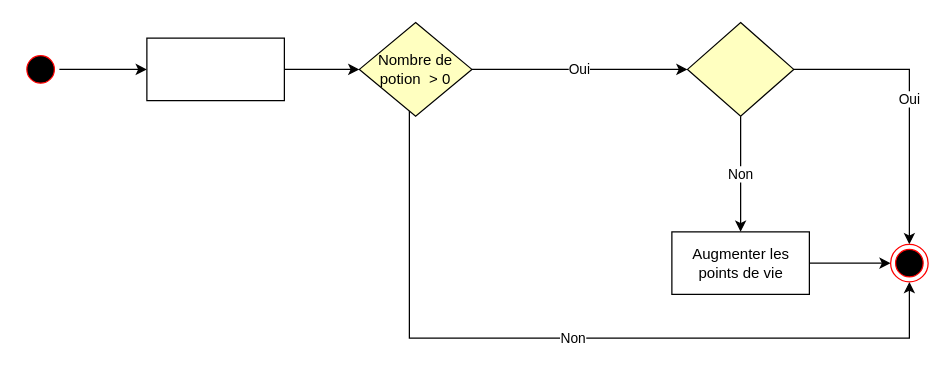
Image size: 950x370. Some labels were removed from this diagram. Here are the shapes that lost their labels. From the top down, the box of each, then its label:
(146, 37, 284, 101): Appuyer sur le bouton "Boire une potion"
(686, 21, 794, 116): Vie du personnage à 100%
